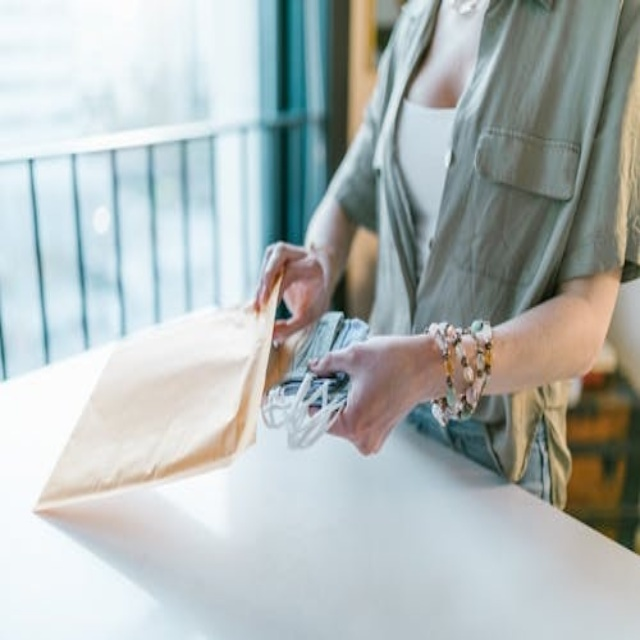Sin_guantes: (299, 328, 428, 454), (253, 238, 333, 346)
